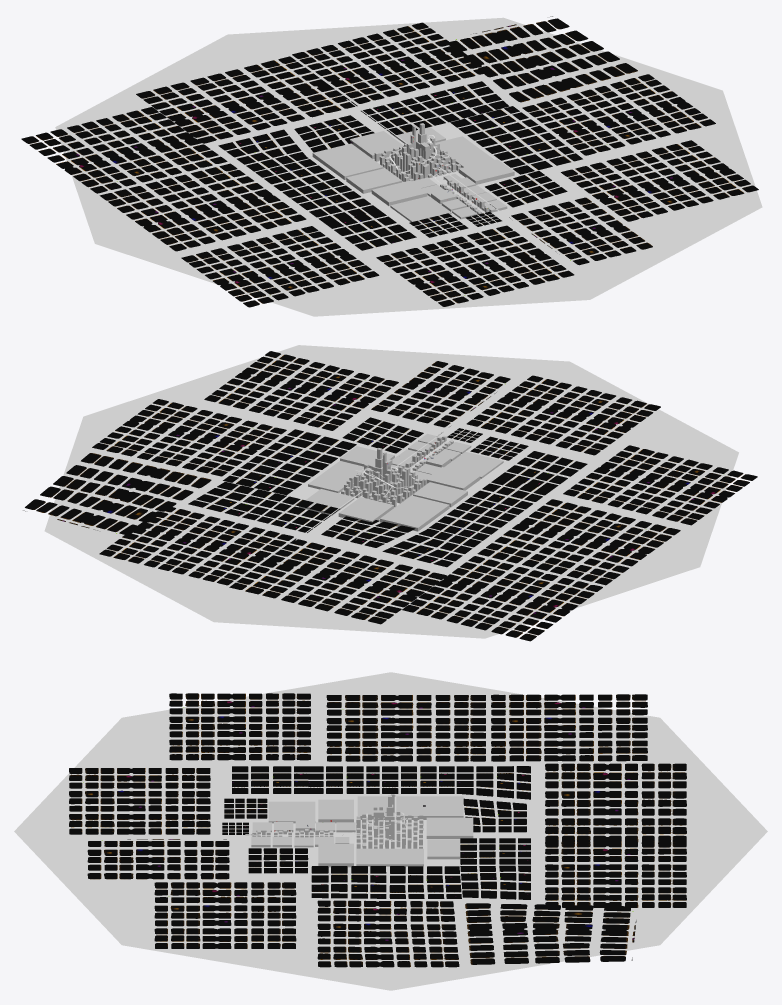
3 renders of one model, top to bottom at view 1: azimuth 30°, elevation 25°; view 2: azimuth 150°, elevation 25°; view 3: azimuth 270°, elevation 25°, orthographic. The views are drawn at different scales.
Parts seen in each view (by area): view 1: displays, ground, buildings; view 2: displays, ground, buildings; view 3: ground, displays, buildings.
Part boxes in pixels (x1,y1,x2,y2): displays: [21, 16, 758, 307]; ground: [55, 17, 762, 316]; buildings: [312, 123, 514, 222]; displays: [23, 351, 757, 641]; ground: [44, 345, 738, 638]; buildings: [299, 433, 503, 531]; ground: [14, 672, 767, 990]; displays: [69, 693, 686, 967]; buildings: [251, 794, 473, 867].
Size of the model in its own units: 52.4 by 52.4 by 4.17.
4 materials, 3 textured.
